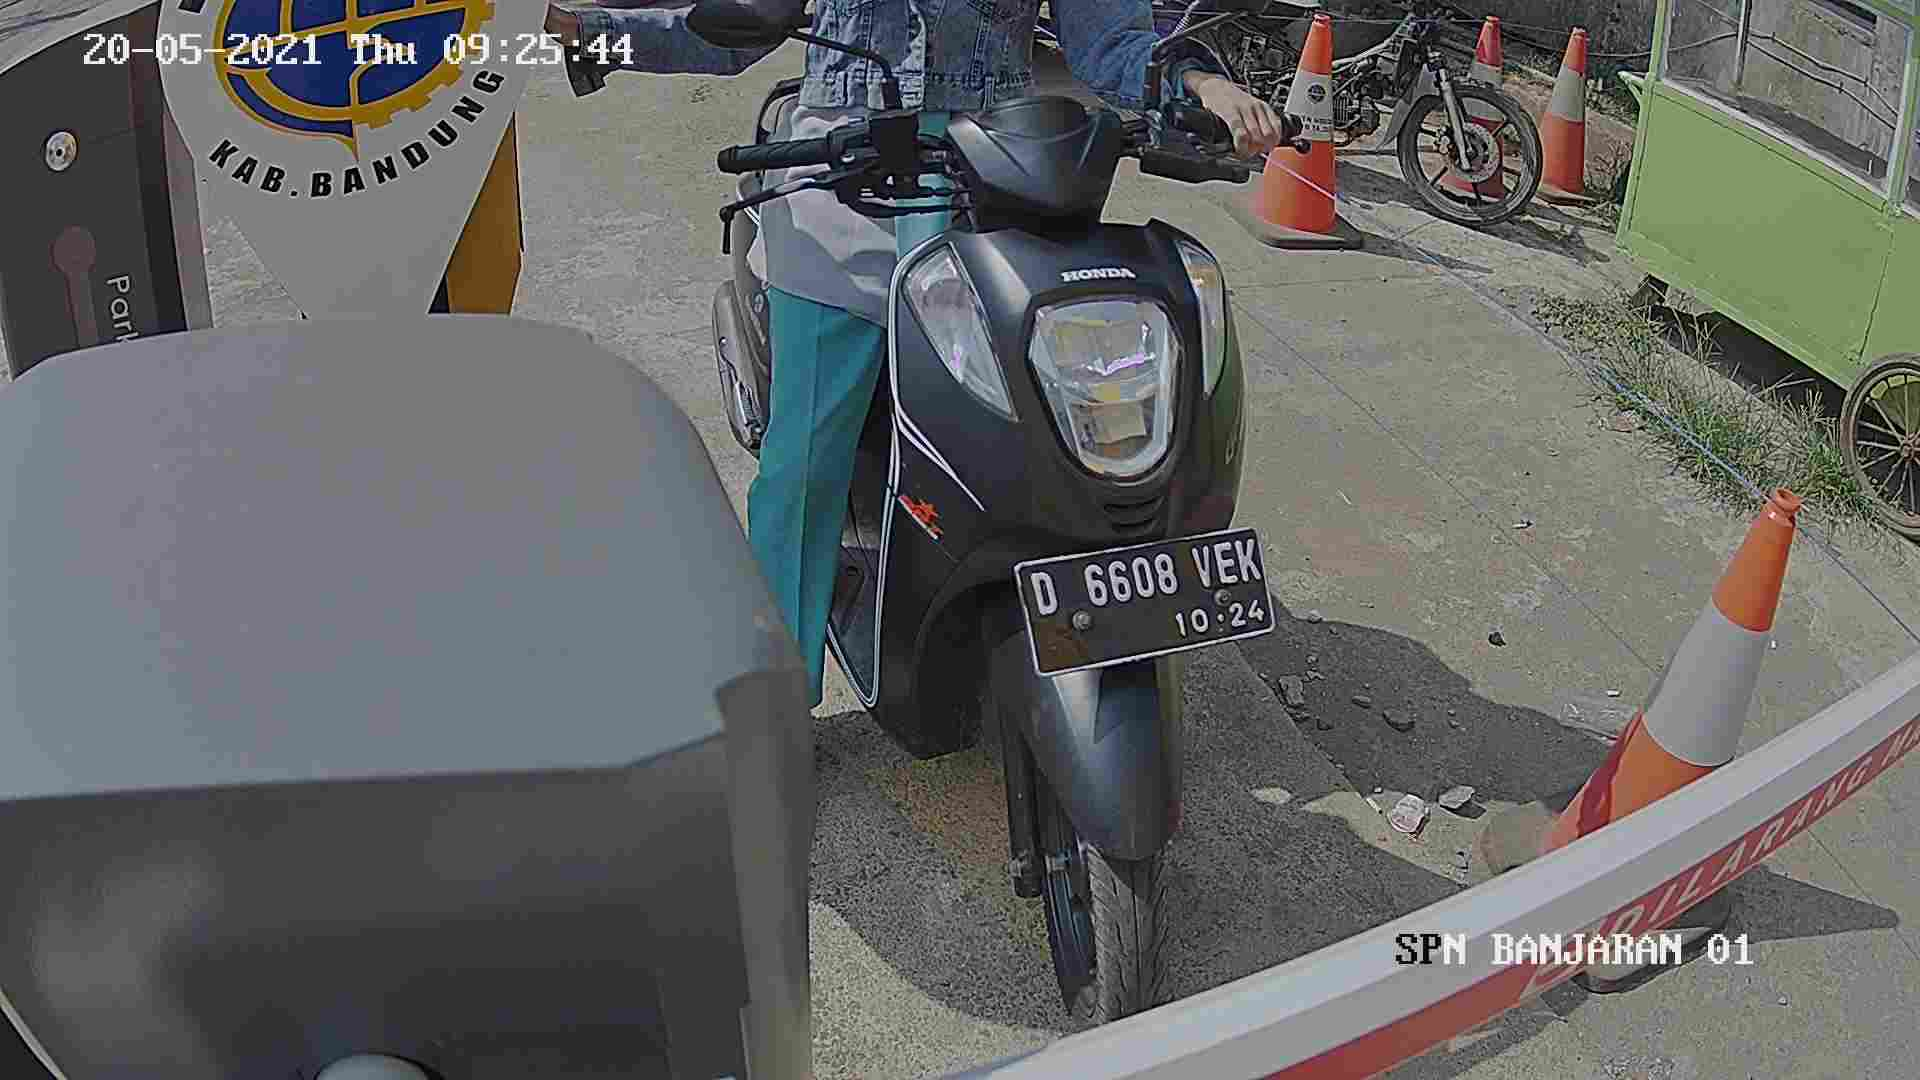motor: (674, 74, 1342, 1033)
